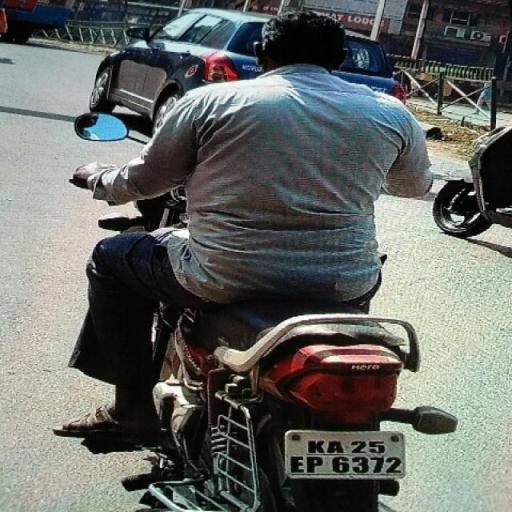bike: (50, 0, 459, 512)
numberplate: (282, 432, 406, 480)
withouthelmet: (260, 12, 348, 72)
